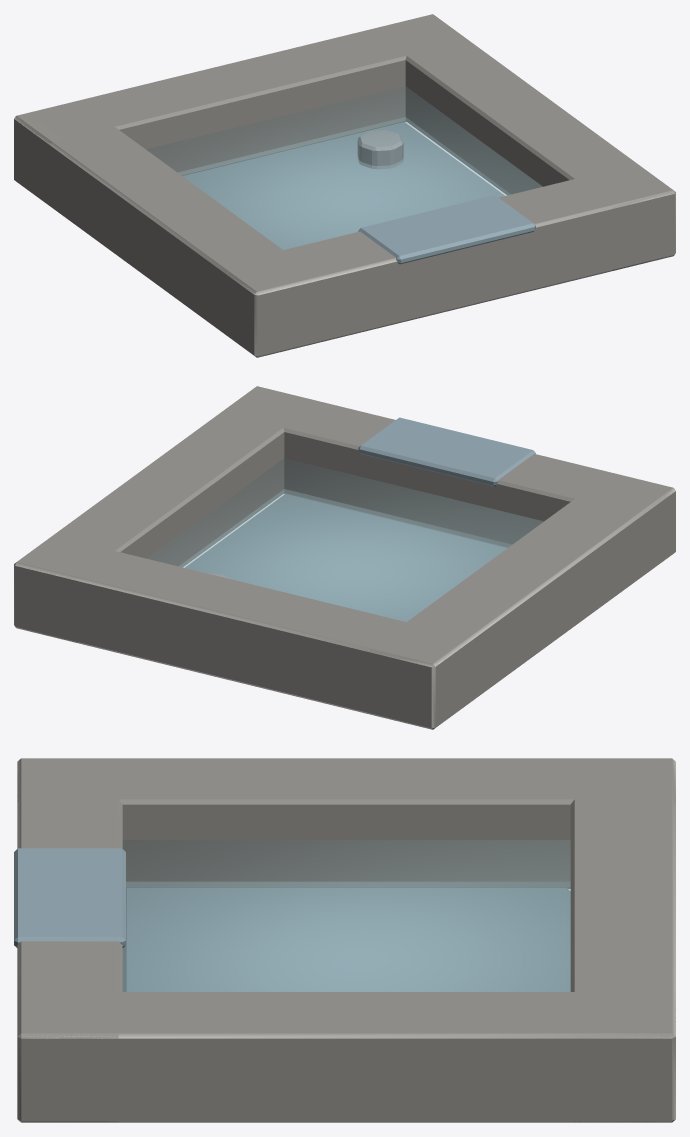
File: plaza_channel_end.glb
3 renders of one model, top to bottom at view 1: azimuth 30°, elevation 25°; view 2: azimuth 150°, elevation 25°; view 3: azimuth 270°, elevation 25°, orthographic. The views are drawn at different scales.
Size of the model in its own units: 2 by 0.345 by 2.01.
